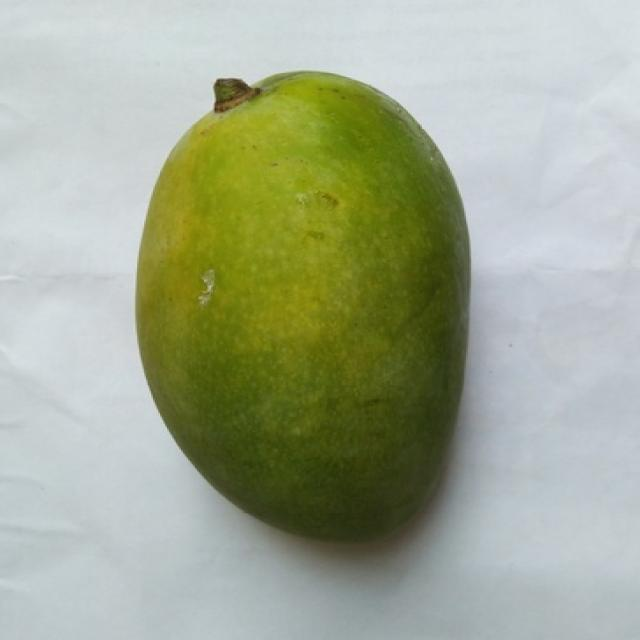Mango: (137, 73, 469, 541)
